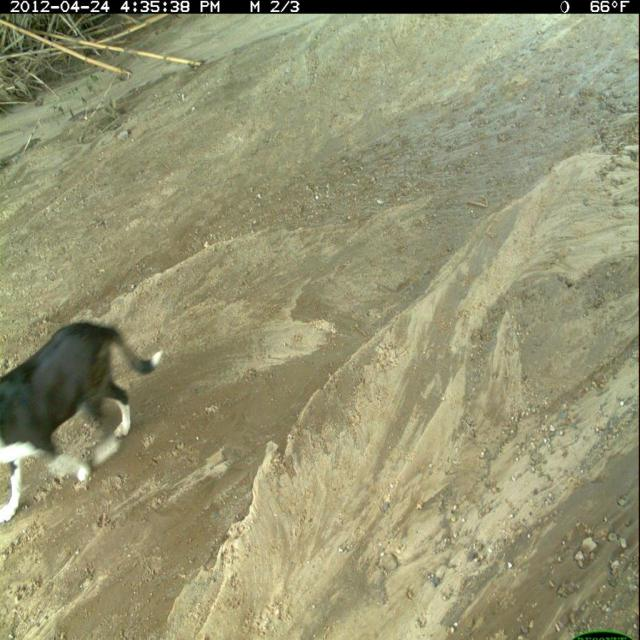dog: (1, 315, 169, 528)
